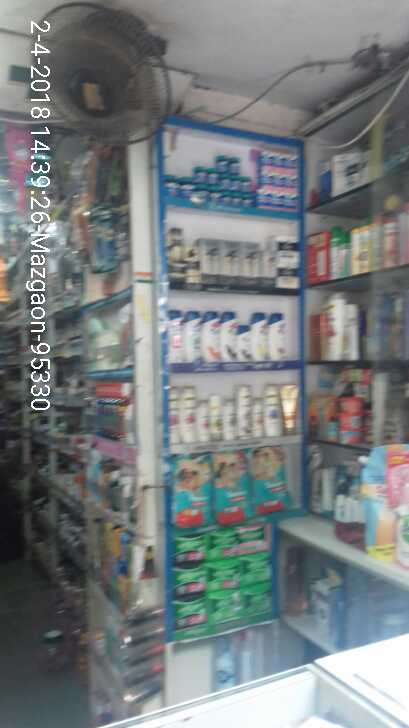vicks: (162, 149, 255, 209), (255, 149, 303, 209)
